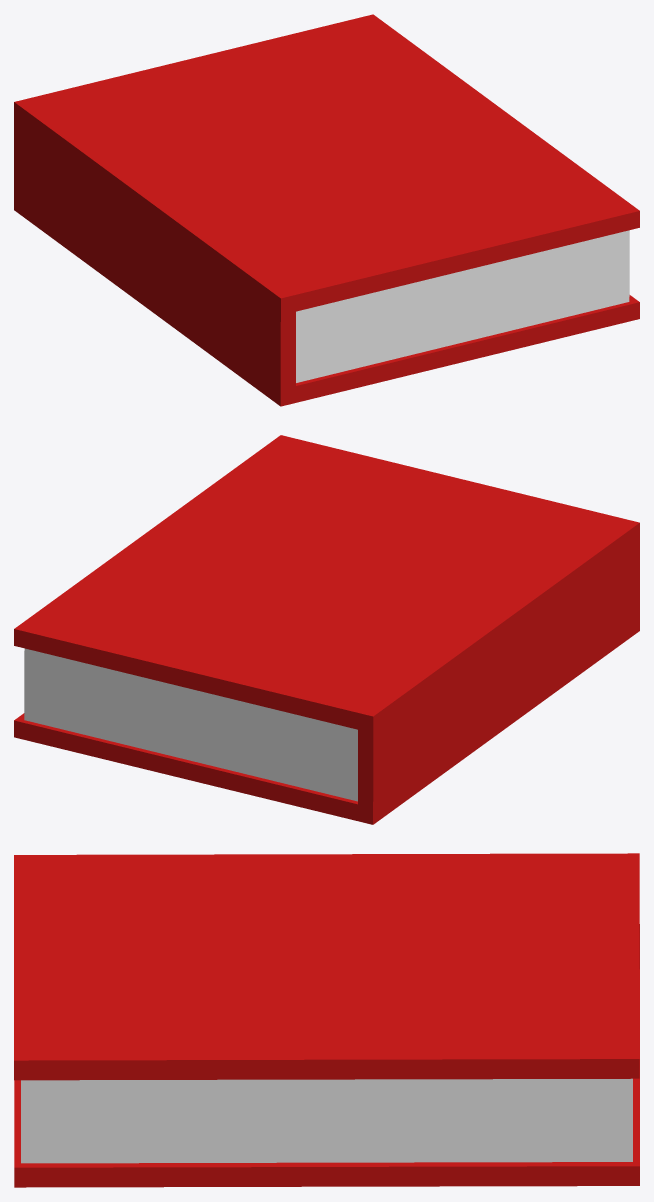
File: Red Book.fbx
3 renders of one model, top to bottom at view 1: azimuth 30°, elevation 25°; view 2: azimuth 150°, elevation 25°; view 3: azimuth 270°, elevation 25°, orthographic. The views are drawn at different scales.
Parts seen in each view (by area): view 1: Blue_Book1; view 2: Blue_Book1; view 3: Blue_Book1.
Part boxes in pixels (box(x1,y1,x2,y2)): Blue_Book1: box(14, 14, 639, 406); Blue_Book1: box(14, 435, 639, 824); Blue_Book1: box(14, 853, 639, 1187).
Size of the model in its own units: 1 by 0.2915 by 1.29.
